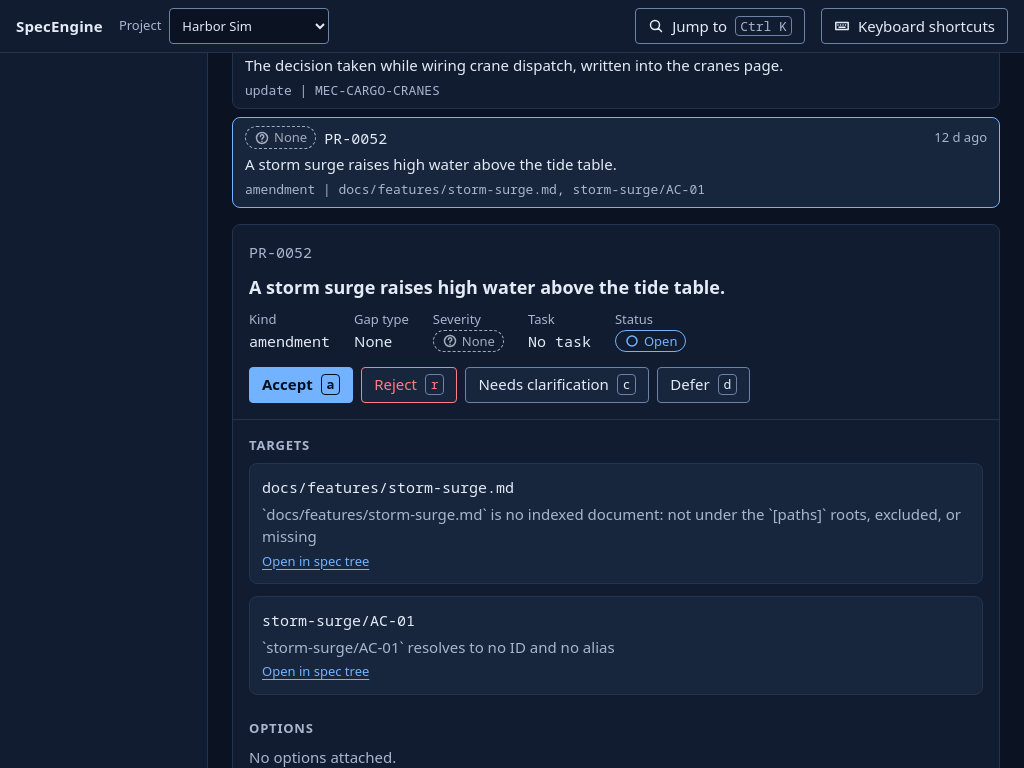
Test: the Inbox takes the amendment by structure (AC-U1) › over HttpClient: the same document, the same card and diff; the POSTs carry exactly an approve, then a reject
(page scrolled)
expect the text with class "card-id" reads "PR-0052": met, box left=249, top=242, right=312, bottom=262
Click the button "Accept a". click: coordinates (301, 384)
box: left=249, top=366, right=353, bottom=402
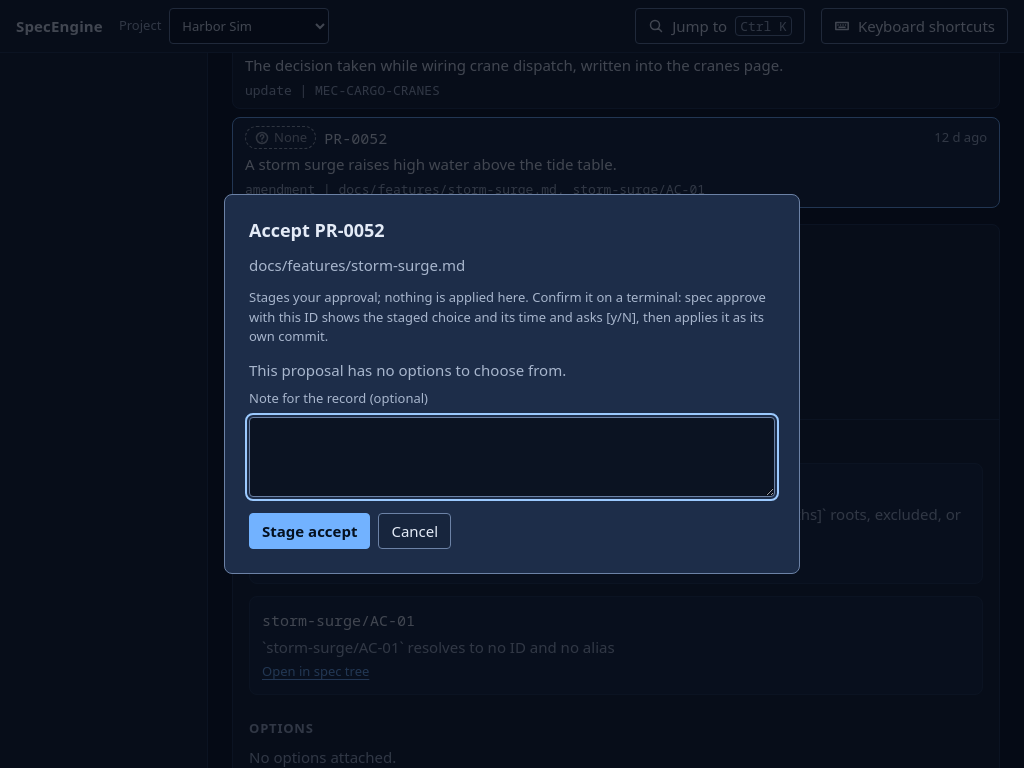
Click the button "Stage accept". click: coordinates (310, 531)
box: left=249, top=513, right=370, bottom=549
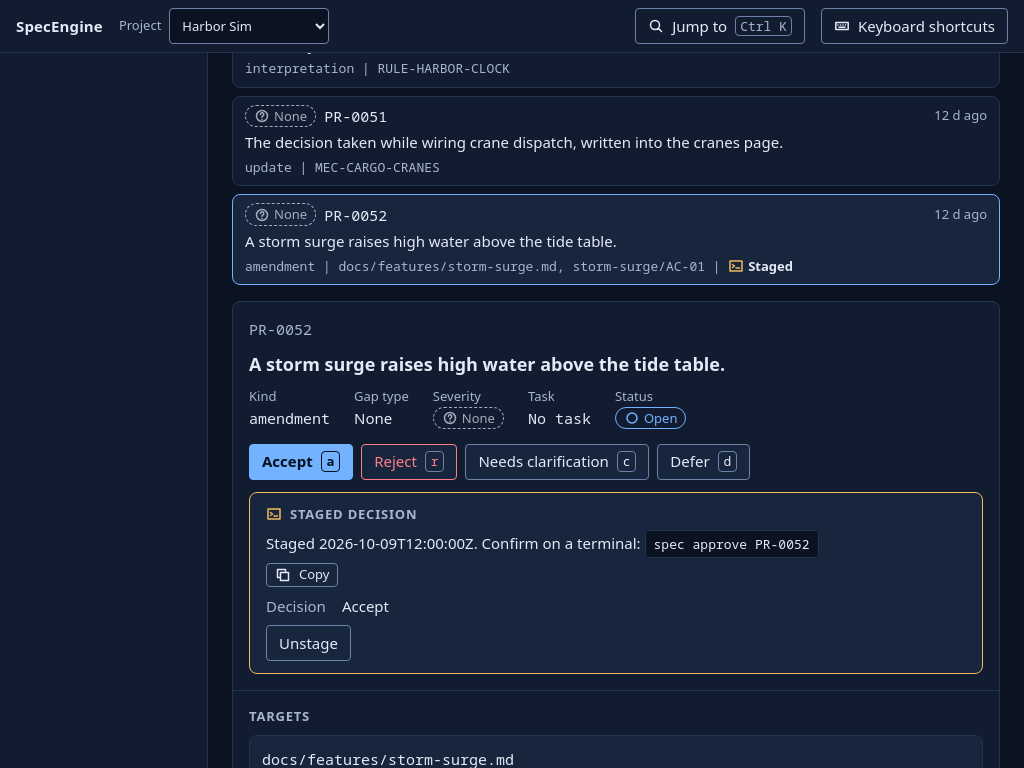
expect the element "Staged decision" is shown: met, box left=249, top=492, right=983, bottom=674
Click the button "Reject r". click: coordinates (409, 462)
box: left=361, top=444, right=457, bottom=480
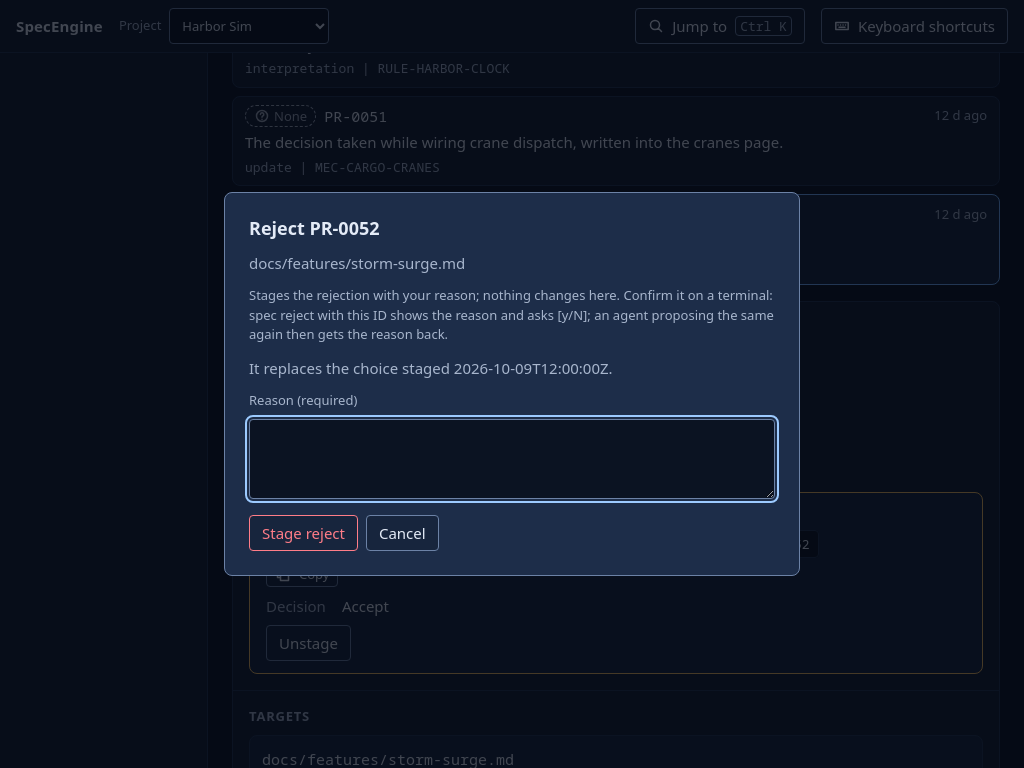
Type "Not this release." into the text box labelled "Reason (required)". click: coordinates (512, 459)
box: left=249, top=419, right=775, bottom=499
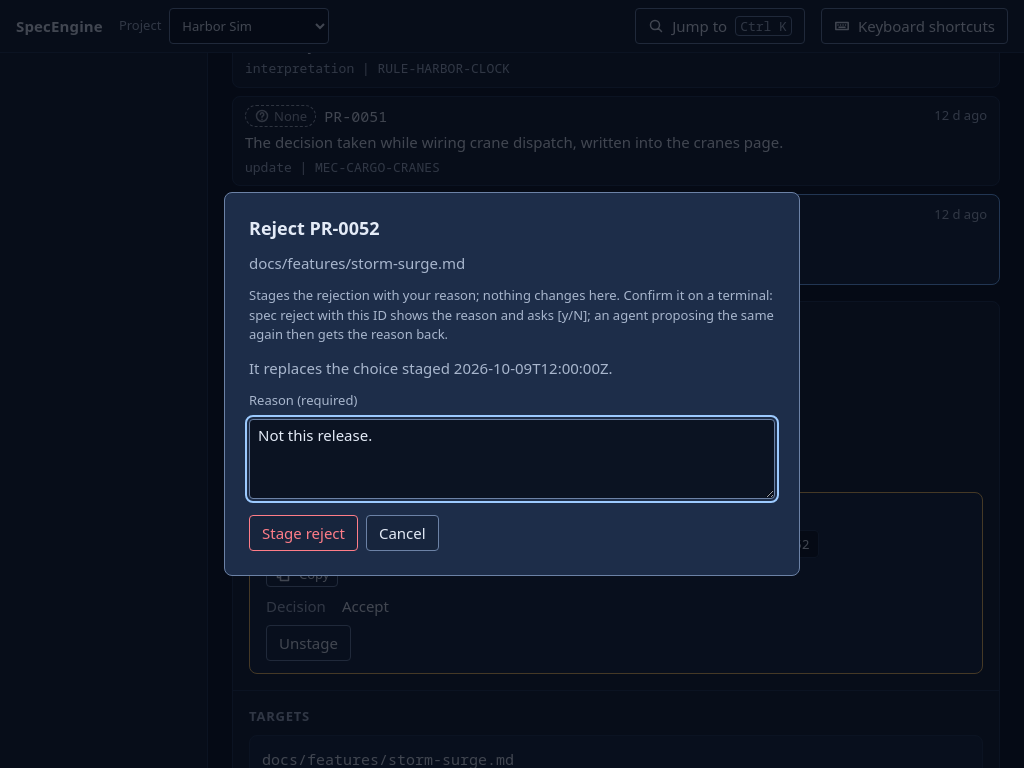
Click the button "Stage reject". click: coordinates (304, 533)
box: left=249, top=515, right=358, bottom=551
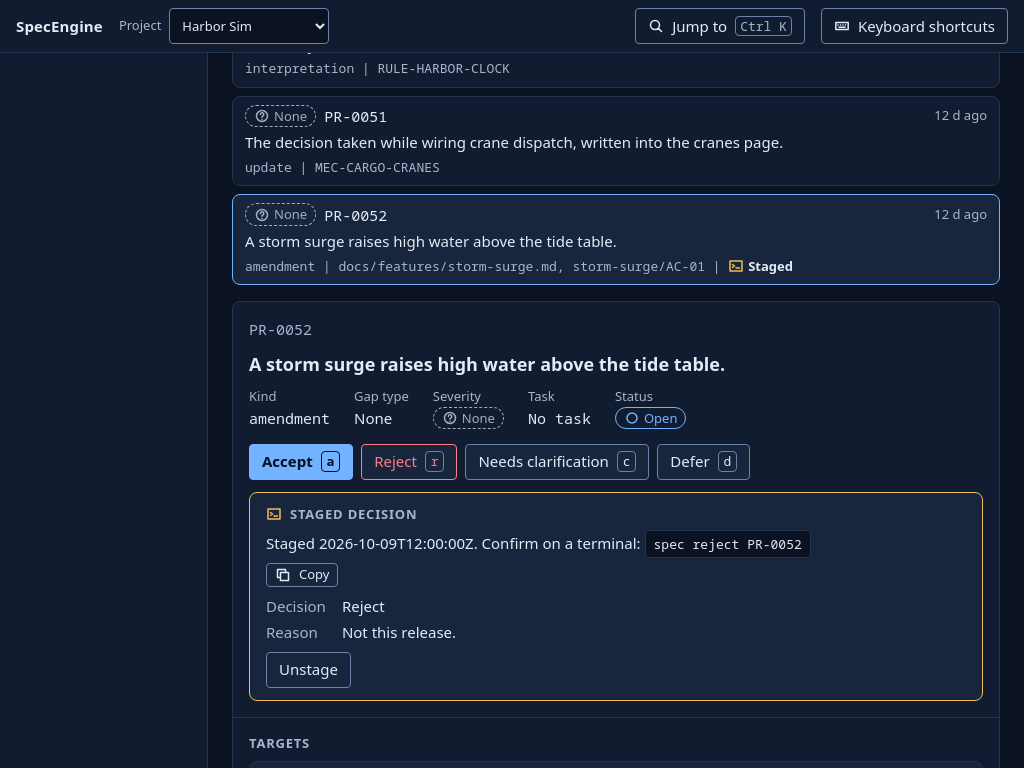
expect the dialog is gone: met
